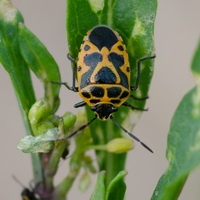insect: (52, 25, 154, 152)
